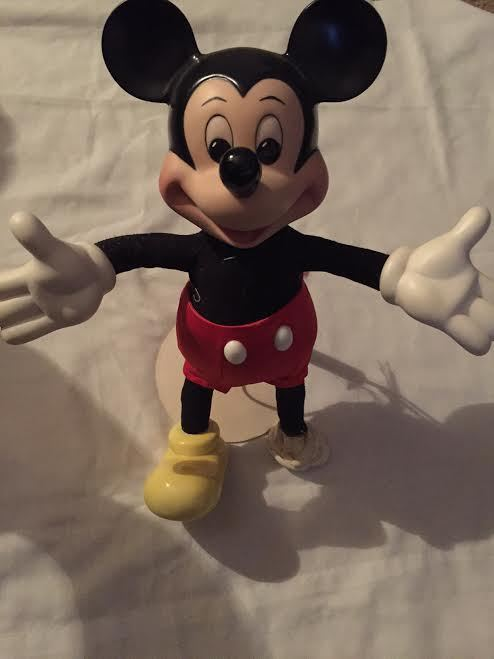Mickey: (98, 2, 387, 253)
